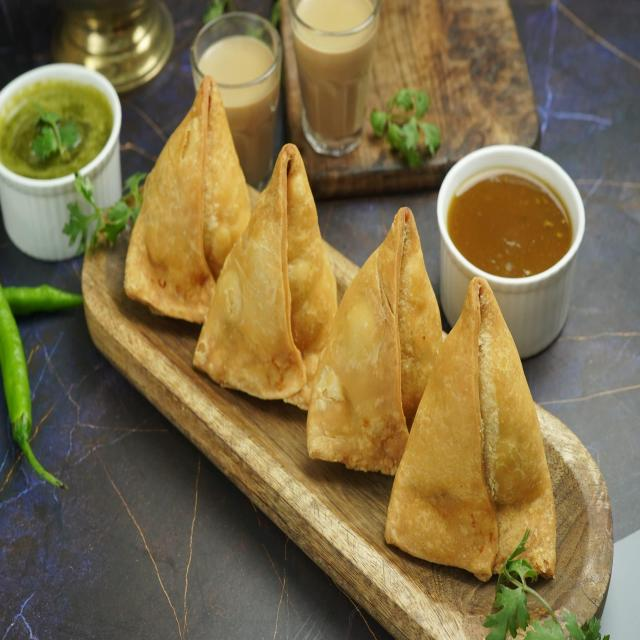SAMOSA: (123, 71, 560, 581)
